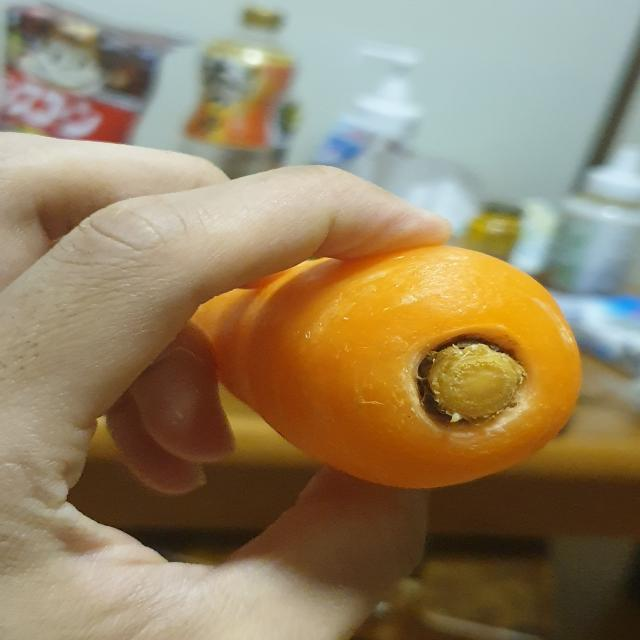carrot: (175, 228, 589, 502)
